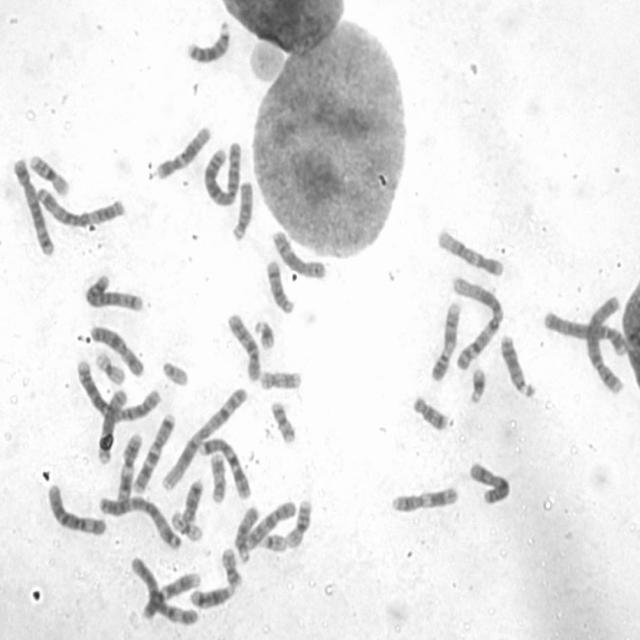A1: (159, 383, 250, 493), (448, 272, 506, 371)
A2: (72, 352, 163, 423), (200, 136, 245, 208)
A3: (94, 490, 183, 552), (32, 182, 127, 229)
B4: (541, 305, 629, 358), (582, 291, 626, 395)
B5: (10, 153, 56, 257), (80, 270, 145, 313)
C10: (242, 496, 298, 552), (224, 308, 263, 383)
C11: (387, 481, 461, 514), (115, 429, 144, 503)
C12: (434, 224, 506, 278), (152, 120, 213, 180)
C6: (128, 553, 200, 627), (44, 479, 108, 538)
C7: (131, 408, 178, 495), (196, 432, 253, 501)
C8: (269, 226, 328, 280), (94, 384, 130, 465)
C9: (139, 569, 203, 622), (428, 296, 464, 382)
D13: (498, 329, 538, 399), (182, 15, 232, 66)
D14: (263, 256, 297, 315), (187, 579, 238, 610)
D15: (231, 501, 261, 565), (228, 176, 255, 243)
E16: (26, 150, 71, 198), (283, 494, 314, 549)
E17: (256, 366, 304, 391), (207, 449, 227, 504)
E18: (409, 391, 452, 432), (180, 474, 206, 524)
F19: (168, 506, 206, 543), (92, 347, 127, 386)
F20: (268, 396, 298, 444), (219, 544, 244, 588)
G21: (466, 362, 488, 405), (252, 315, 278, 351)
G22: (160, 356, 192, 388), (256, 528, 288, 553)
X: (87, 320, 147, 378), (466, 456, 514, 506)
